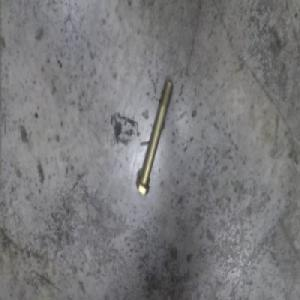Bolt: (134, 79, 176, 194)
